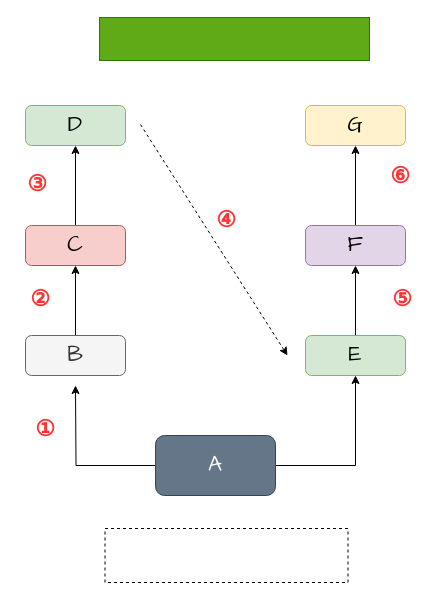
The diagram is 439 pixels wide and 600 high, and some of its shapes have lost their labels. The centre of each missing label's shape, as x and y in pixels:
"Python 3 多继承顺序" goes at (x=234, y=38).
"制作者：王炳明 公众号：Python编程时光" goes at (x=226, y=555).
